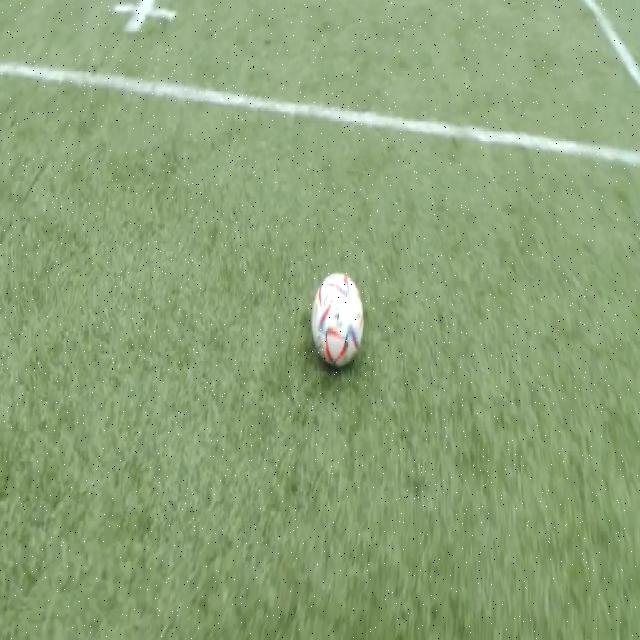ball: (312, 274, 363, 367)
